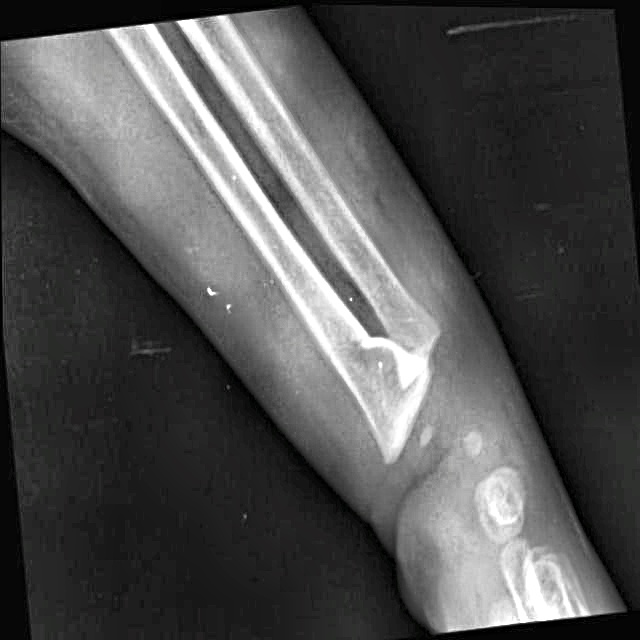Greenstick: (346, 301, 389, 362)
